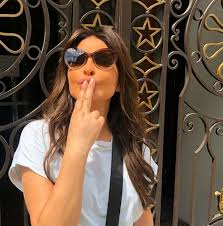middle_eastern_Female: (64, 36, 122, 109)
